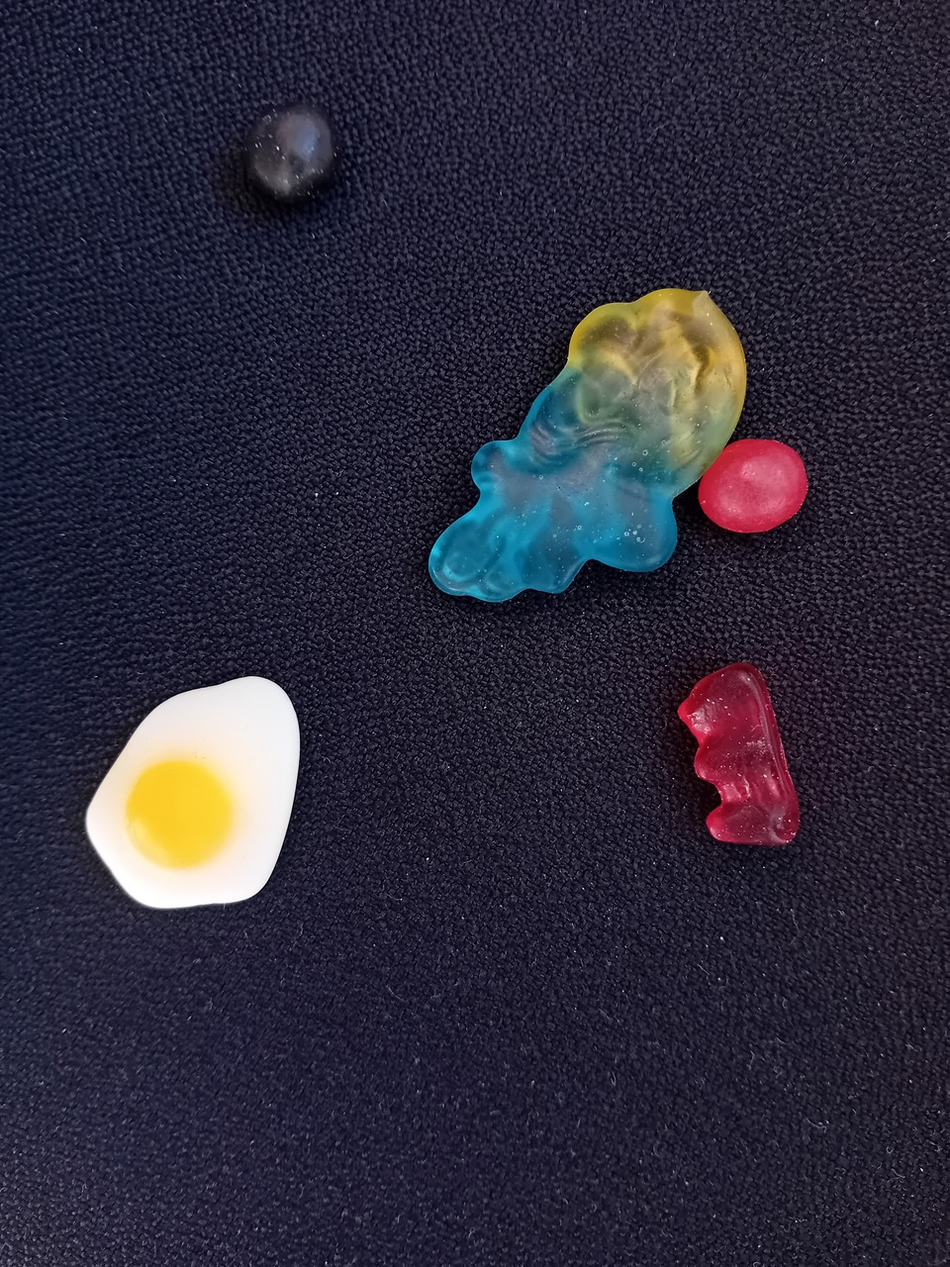dragibus_noir: (229, 92, 356, 216)
dragibus_rouge: (695, 434, 813, 538)
oeuf_oeuf: (79, 668, 317, 918)
ourson_rouge: (673, 655, 808, 855)
schtroumpf_bleu-jaune: (416, 284, 754, 610)
